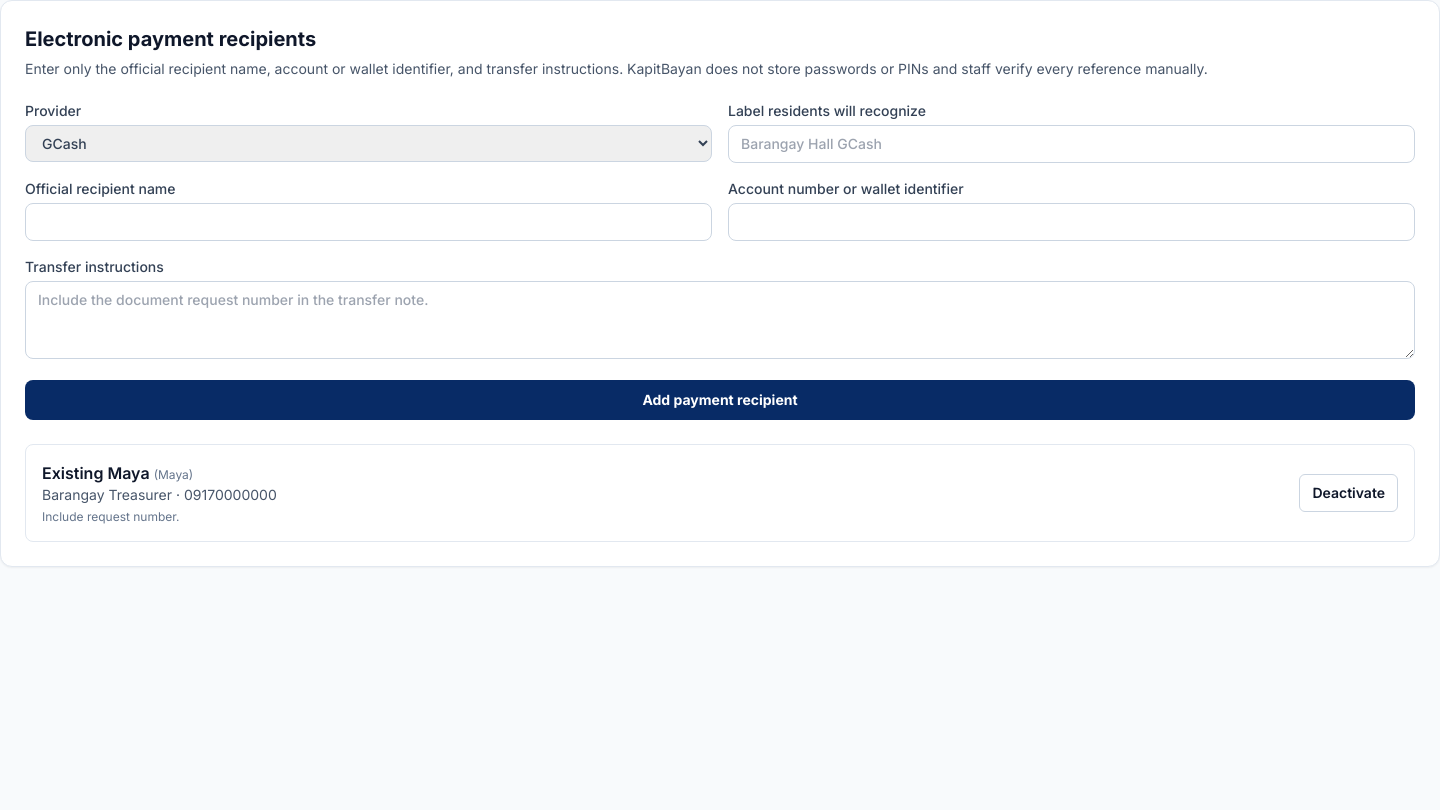
Test: PaymentRecipientSettings › retains known recipients and distinct create success feedback when the follow-up GET fails
The image size is (1440, 810).
Check: the heading "Existing Maya (Maya)" is shown, box left=42, top=463, right=193, bottom=483
Type "New recipient" into the field labelled "Label residents will recognize" at (1072, 144), box left=728, top=125, right=1415, bottom=163
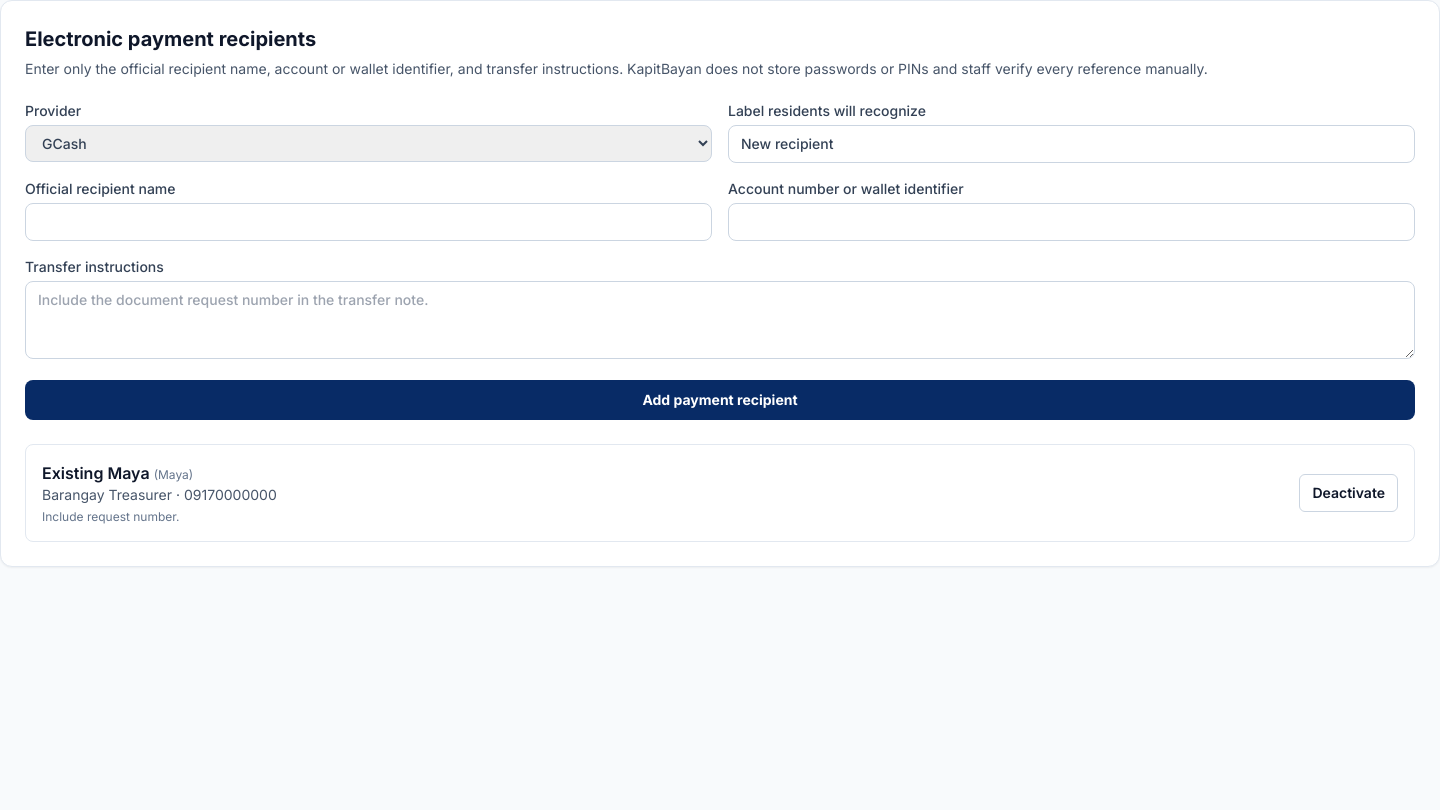
Type "New Treasurer" into the field labelled "Official recipient name" at (368, 222), box left=25, top=203, right=712, bottom=241
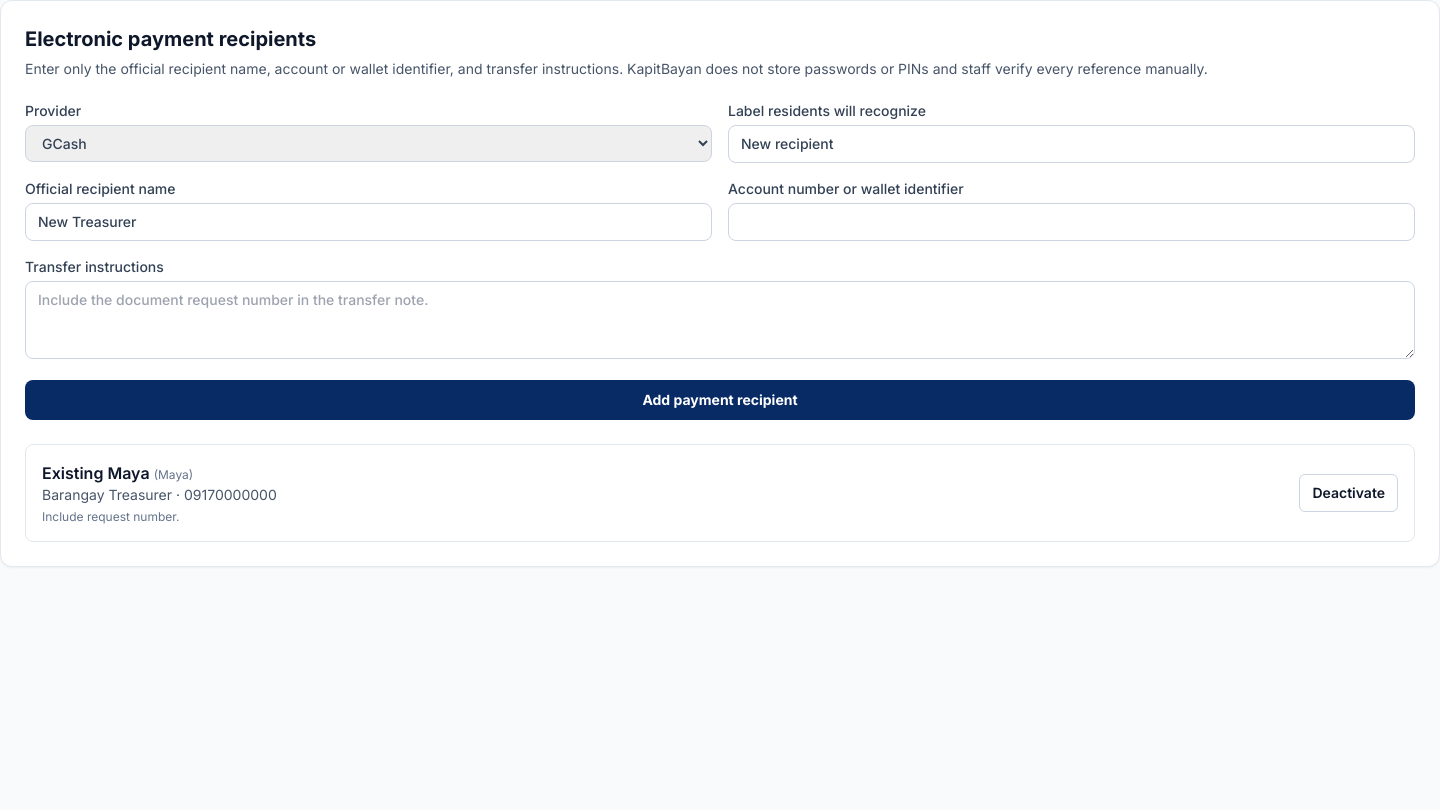
Type "09179999999" into the field labelled "Account number or wallet identifier" at (1072, 222), box left=728, top=203, right=1415, bottom=241
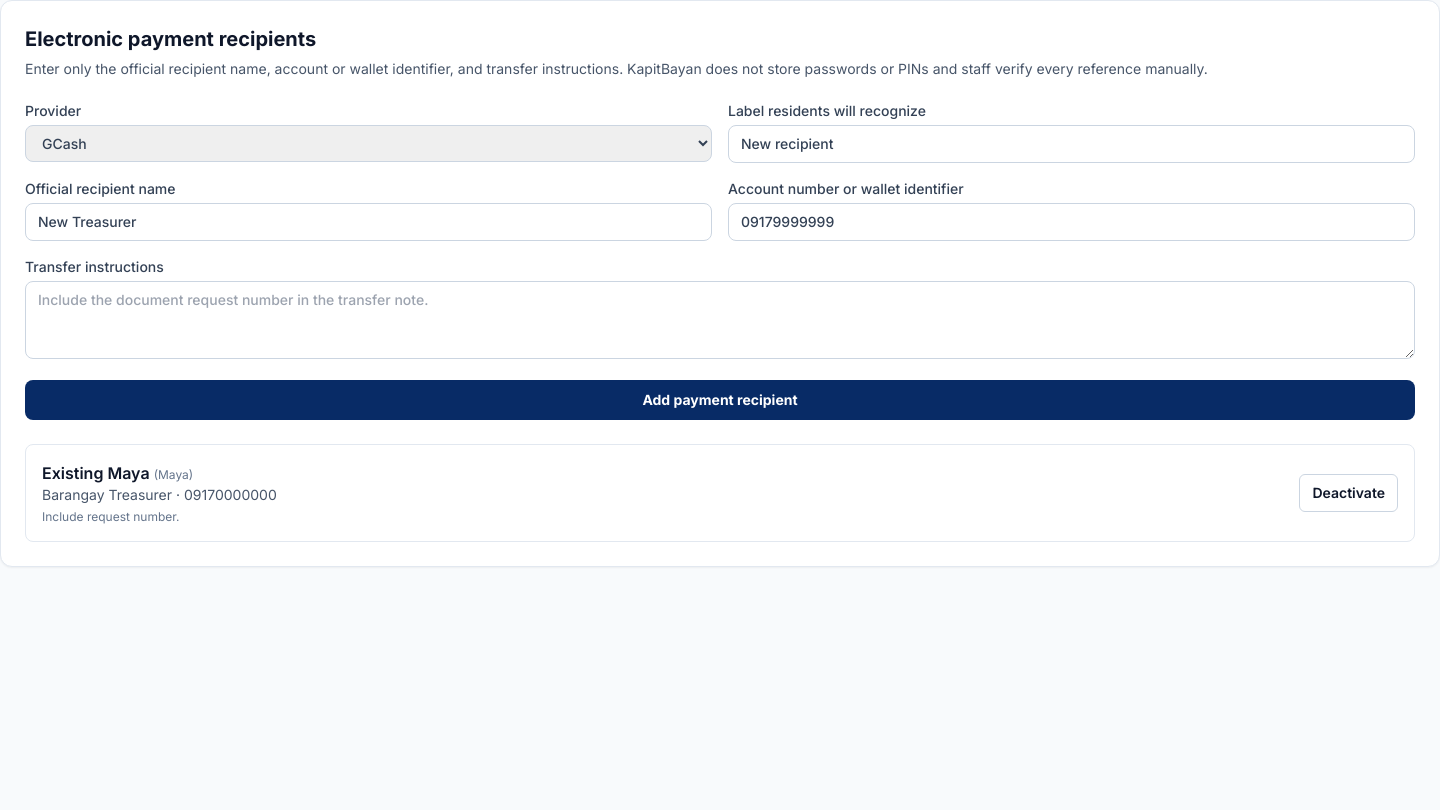
Click the button "Add payment recipient" at (720, 400), box left=25, top=380, right=1415, bottom=420
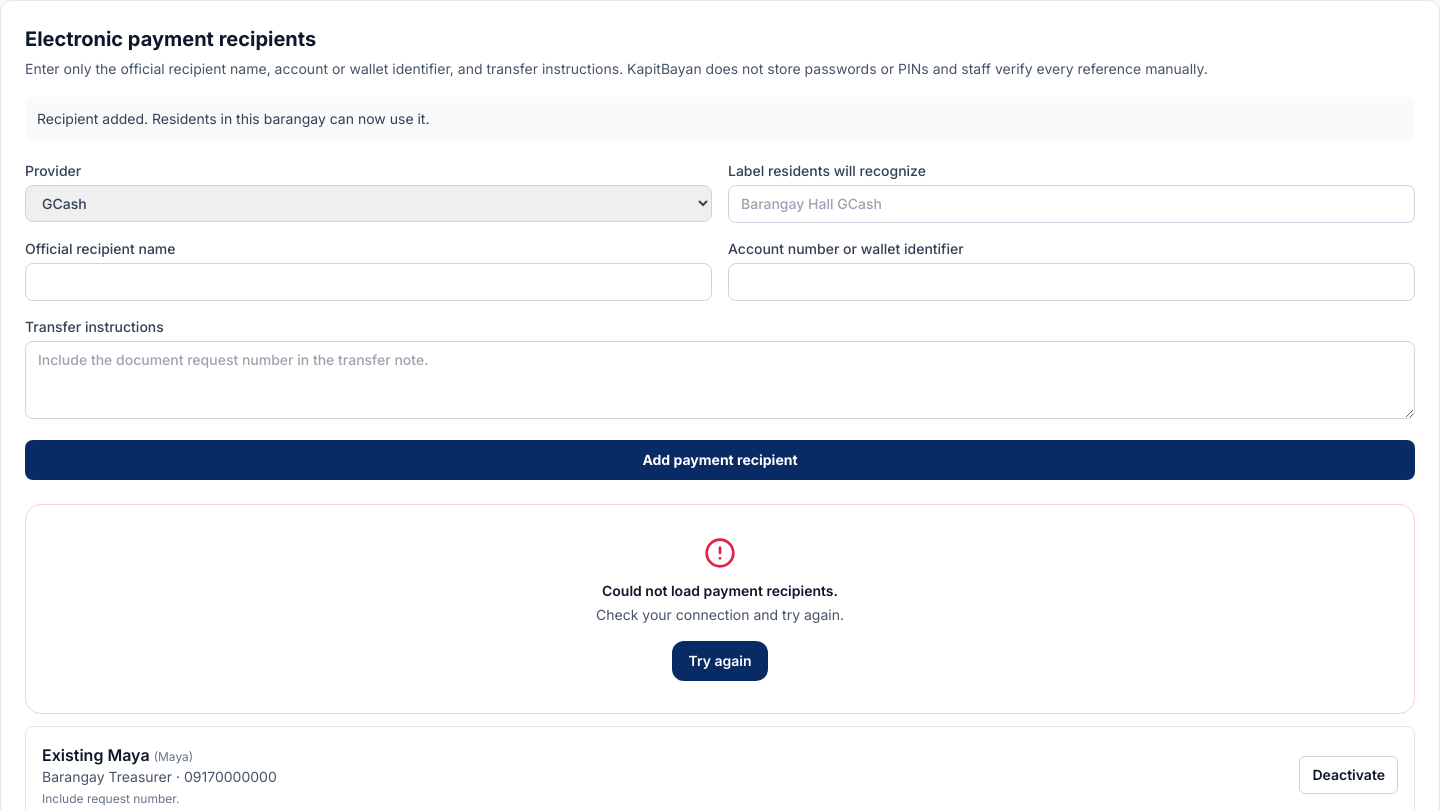
Check: the heading "Existing Maya (Maya)" is shown, box left=42, top=745, right=193, bottom=765
Check: the message that starts with "Could not load payment recipients." is shown, box left=602, top=582, right=838, bottom=599
Check: the message "Recipient added. Residents in this barangay can now use it." is shown, box left=25, top=97, right=1415, bottom=141
